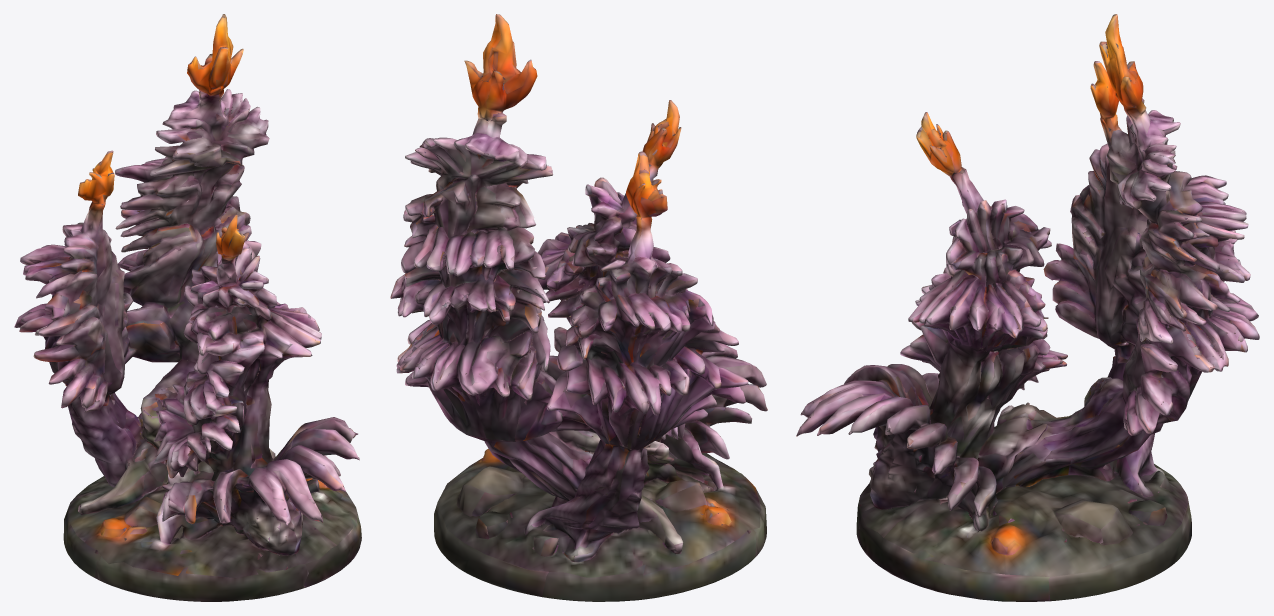
Rendered from cyricae.glb.
The picture shows the model from 3 angles, left to right: view 1: azimuth 30°, elevation 25°; view 2: azimuth 150°, elevation 25°; view 3: azimuth 270°, elevation 25°; orthographic projection. The views are drawn at different scales.
Bounding box in the file's own units: 1.15 × 1.9 × 1.46.
1 material, 1 textured.
